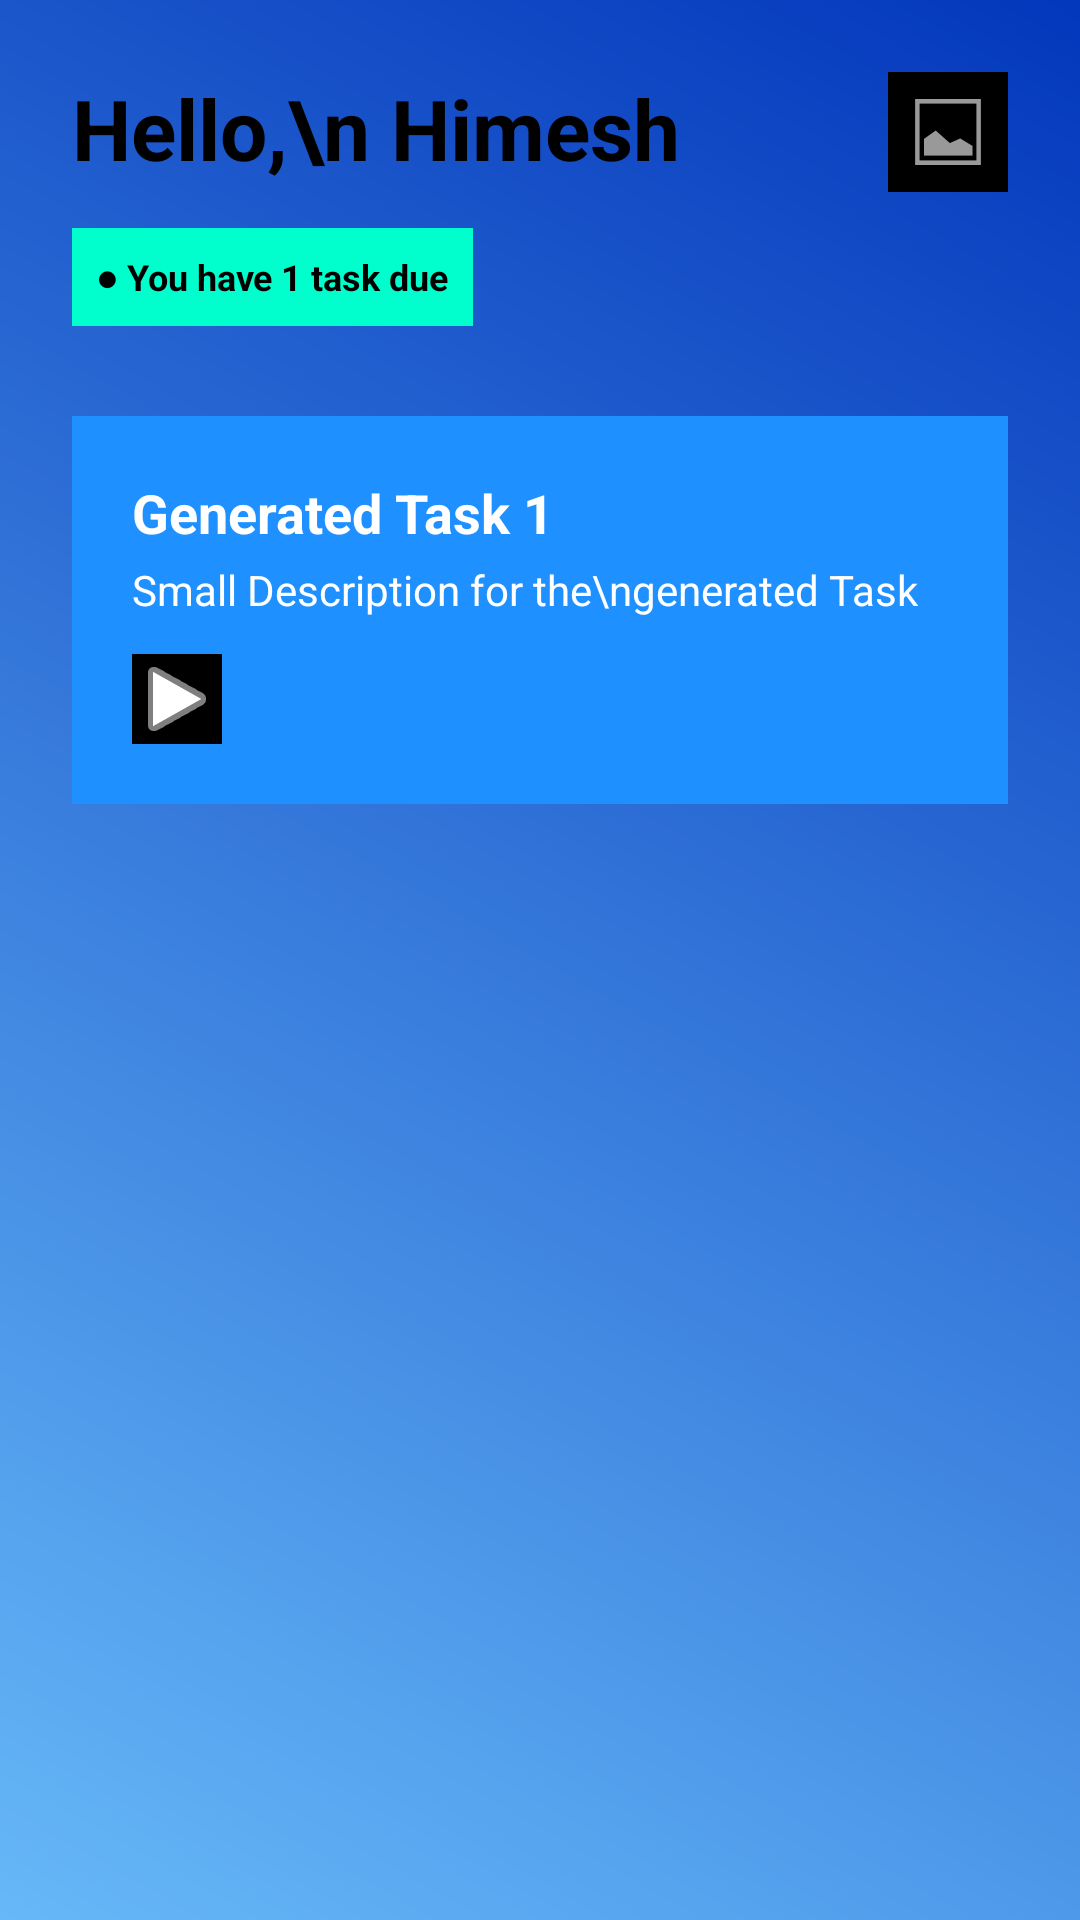

Icon click points for this 1080×1920 phone screenshot, format (x,y):
gallery: (948,132)
play: (177,699)
